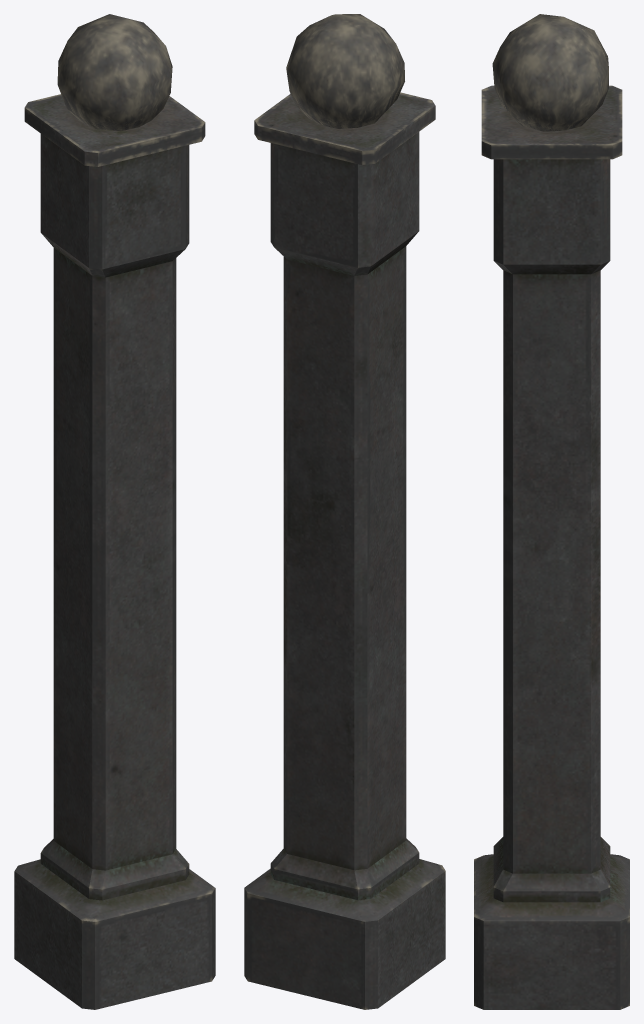
Rendered from SM_fence_part_01.fbx.
3 renders of one model, left to right at view 1: azimuth 30°, elevation 25°; view 2: azimuth 150°, elevation 25°; view 3: azimuth 270°, elevation 25°, orthographic.
Visible parts, largest first — view 1: SM_fence_part_01_LOD0; view 2: SM_fence_part_01_LOD0; view 3: SM_fence_part_01_LOD0.
Part boxes in pixels (left/top/right/bottom): SM_fence_part_01_LOD0: left=14, top=14, right=215, bottom=1009; SM_fence_part_01_LOD0: left=244, top=14, right=445, bottom=1009; SM_fence_part_01_LOD0: left=474, top=14, right=629, bottom=1009.
Bounding box in the file's own units: 16 × 16 × 108.
1 material, 1 textured.
